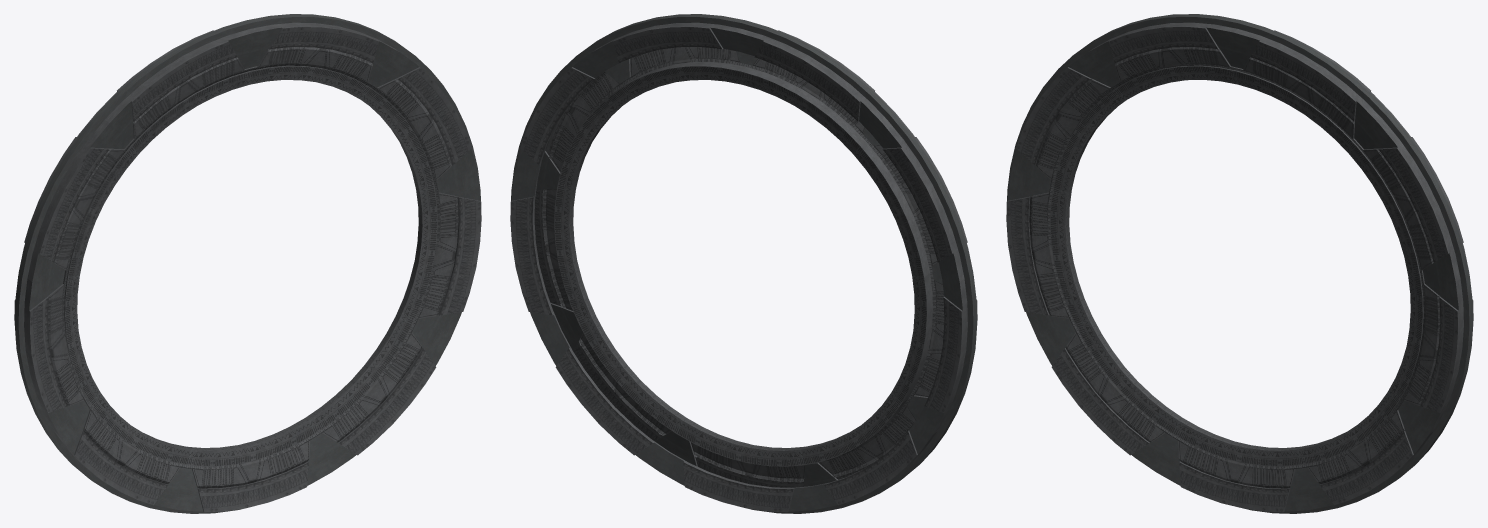
The model's file is MilkywayRing.obj.
3 views of the same model, side by side, from view 1: azimuth 30°, elevation 25°; view 2: azimuth 150°, elevation 25°; view 3: azimuth 330°, elevation 25° (orthographic).
Visible parts, largest first — view 1: Frame, OuterSide, InnerSide; view 2: Frame, OuterSide, InnerSide; view 3: Frame, OuterSide, InnerSide.
Boxes of the visible parts, x1,y1,x2,y2 form: Frame: (14,22,481,512); OuterSide: (14,14,480,513); InnerSide: (132,107,422,450); Frame: (510,22,977,512); OuterSide: (511,14,977,513); InnerSide: (569,107,859,450); Frame: (1006,22,1473,512); OuterSide: (1007,14,1473,513); InnerSide: (1065,107,1356,450).
Size of the model in its own units: 2.76 by 2.76 by 0.16.
Materials: 3 (3 with a texture image).
